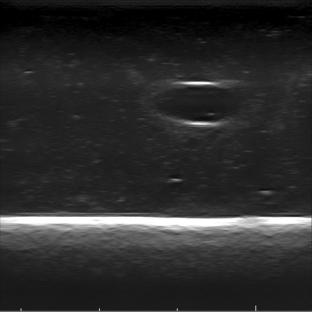vessel: (157, 81, 243, 129)
